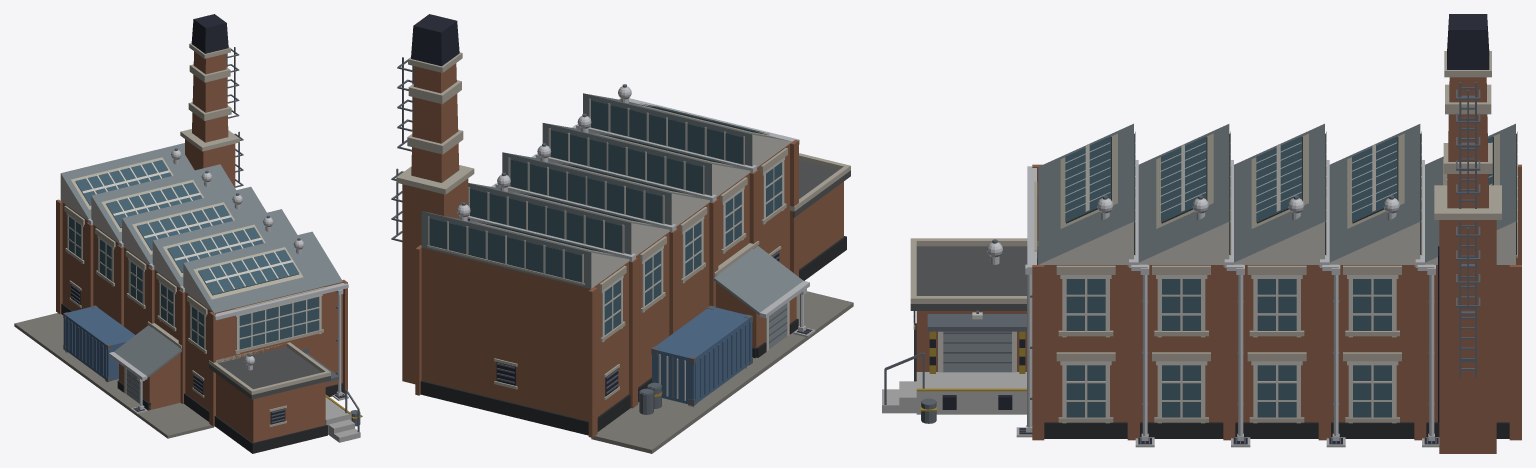
The model's file is industrial_factory_lvl2.glb.
3 renders of one model, left to right at view 1: azimuth 30°, elevation 25°; view 2: azimuth 150°, elevation 25°; view 3: azimuth 270°, elevation 25°, orthographic. The views are drawn at different scales.
Parts seen in each view (by area): view 1: industrial_factory, industrial_factory_Glass; view 2: industrial_factory, industrial_factory_Glass; view 3: industrial_factory, industrial_factory_Glass.
Boxes of the visible parts, x1,y1,x2,y2 form: industrial_factory: (14,14,362,453); industrial_factory_Glass: (69,160,318,349); industrial_factory: (391,14,853,453); industrial_factory_Glass: (429,100,781,335); industrial_factory: (882,14,1521,453); industrial_factory_Glass: (1037,133,1516,417).
Bounding box in the file's own units: 0.5923 × 0.732 × 1.
